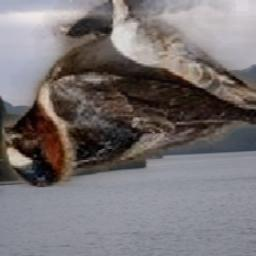Swallow: (2, 0, 256, 187)
